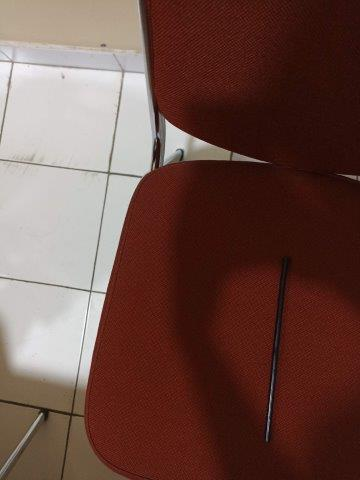sedotan: (265, 257, 288, 442)
